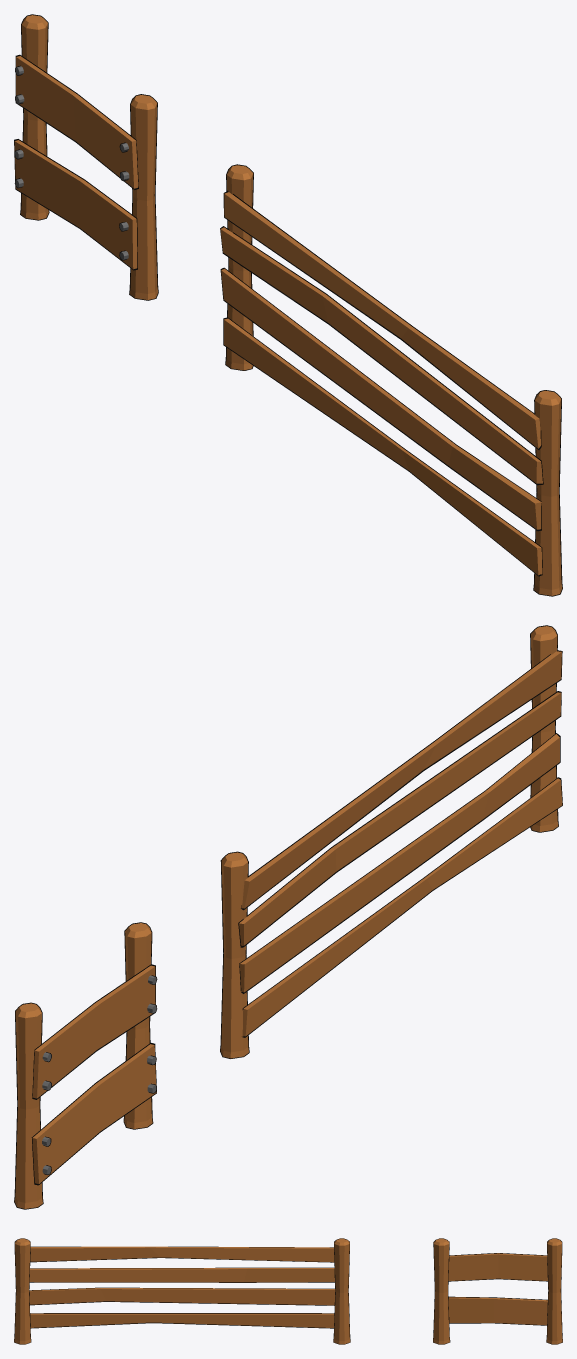
File: fence.fbx
3 renders of one model, top to bottom at view 1: azimuth 30°, elevation 25°; view 2: azimuth 150°, elevation 25°; view 3: azimuth 270°, elevation 25°, orthographic. The views are drawn at different scales.
Visible parts, largest first — view 1: Cube.015, Cube.014, Cube.017, Cube.016, Cube.004, Cube.003, Cube.001, Cube.013, Cube, Cube.002; view 2: Cube.015, Cube.014, Cube.017, Cube.016, Cube.004, Cube.003, Cube.002, Cube, Cube.001, Cube.013; view 3: Cube.015, Cube.014, Cube.017, Cube.016, Cube.004, Cube.003, Cube.013, Cube.001, Cube.002, Cube.
Part boxes in pixels (box(x1,y1,x2,y2)): Cube.015: box(220, 267, 541, 531); Cube.014: box(220, 226, 543, 485); Cube.017: box(223, 191, 541, 449); Cube.016: box(223, 317, 542, 576); Cube.004: box(14, 139, 137, 270); Cube.003: box(15, 54, 138, 189); Cube.001: box(129, 94, 158, 300); Cube.013: box(533, 390, 562, 596); Cube: box(20, 14, 49, 220); Cube.002: box(225, 164, 253, 370); Cube.015: box(239, 733, 560, 993); Cube.014: box(238, 691, 561, 947); Cube.017: box(241, 650, 562, 910); Cube.016: box(242, 777, 562, 1037); Cube.004: box(31, 1043, 156, 1185); Cube.003: box(32, 964, 155, 1099); Cube.002: box(220, 851, 249, 1058); Cube: box(14, 1002, 43, 1209); Cube.001: box(123, 922, 153, 1129); Cube.013: box(530, 625, 558, 832); Cube.015: box(29, 1287, 335, 1305); Cube.014: box(29, 1267, 334, 1282); Cube.017: box(30, 1246, 334, 1262); Cube.016: box(30, 1313, 334, 1328); Cube.004: box(448, 1296, 547, 1325); Cube.003: box(448, 1253, 547, 1281); Cube.013: box(14, 1238, 31, 1344); Cube.001: box(433, 1238, 450, 1344); Cube.002: box(333, 1238, 350, 1344); Cube: box(546, 1238, 562, 1344).
Bounding box in the file's own units: 86.65 × 492 × 2416.
